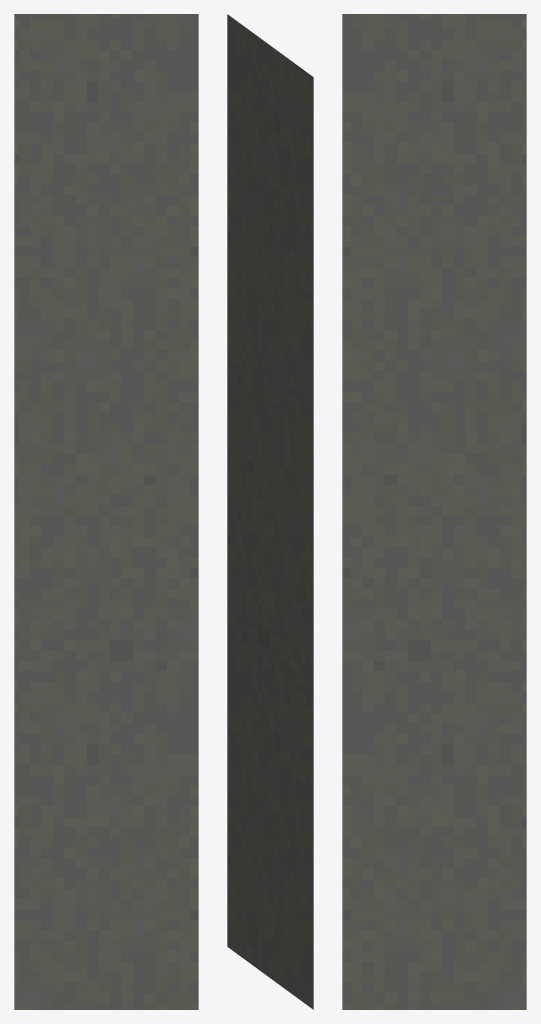
Rendered from kd_stage_135ded_4_8_exterior_piece_7.glb.
3 renders of one model, left to right at view 1: azimuth 90°, elevation 25°; view 2: azimuth 210°, elevation 25°; view 3: azimuth 270°, elevation 25°, orthographic. The views are drawn at different scales.
Visible parts, largest first — view 1: kd_stage_135ded_4_8_exterior_piece_7; view 2: kd_stage_135ded_4_8_exterior_piece_7; view 3: kd_stage_135ded_4_8_exterior_piece_7.
Boxes of the visible parts, bbox=[...] form: kd_stage_135ded_4_8_exterior_piece_7: bbox=[14, 14, 198, 1009]; kd_stage_135ded_4_8_exterior_piece_7: bbox=[227, 14, 313, 1009]; kd_stage_135ded_4_8_exterior_piece_7: bbox=[342, 14, 526, 1009].
Size of the model in its own units: 0 by 0.4975 by 0.0835.
1 material, 1 textured.
